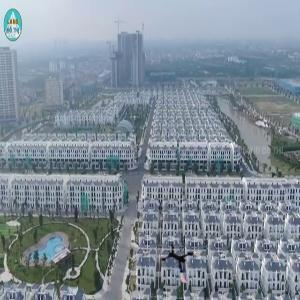drone: (162, 240, 204, 282)
